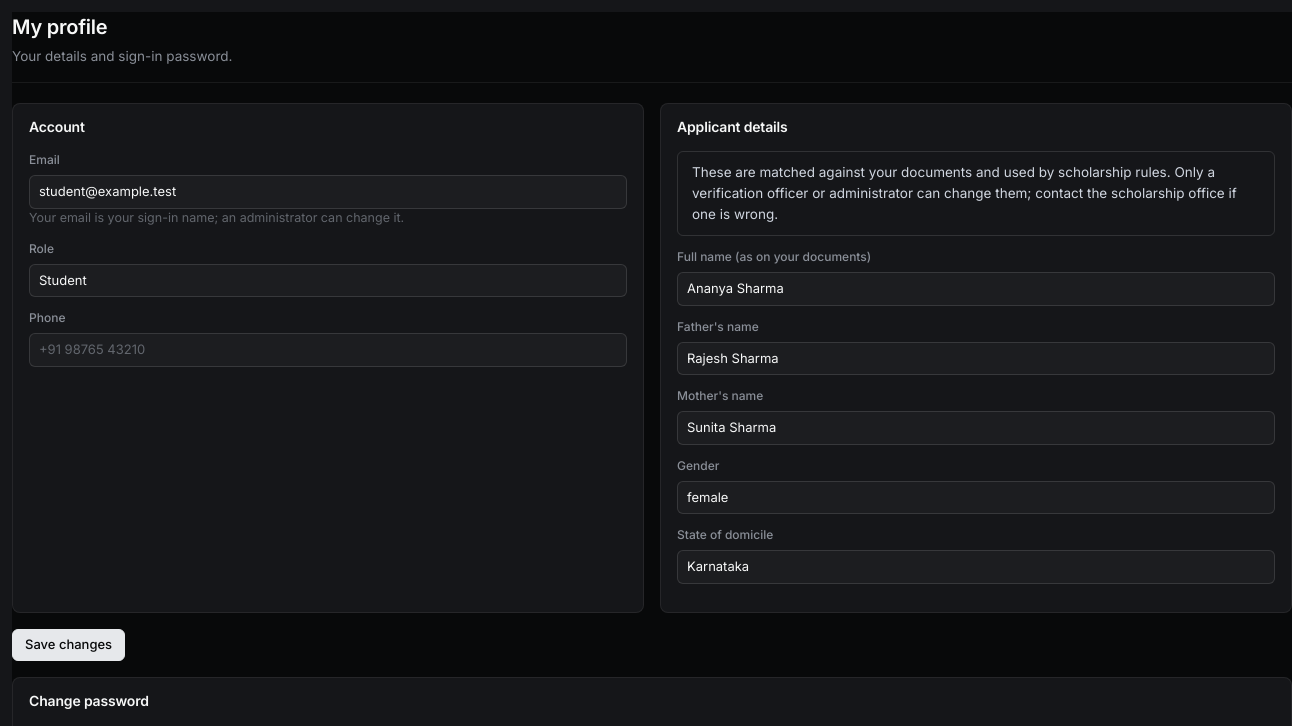
Test: profile page › shows a student’s details read-only once set, and only sends the phone afterwards
The width and height of the screenshot is (1292, 726).
Expected: the field labelled "Full name (as on your documents)" is disabled, [677,272,1275,306]
Expected: the field labelled "Father's name" is disabled, [677,342,1275,375]
Type "+91 90000 00000" into the field labelled "Phone" at (328, 350), box [29,333,627,366]
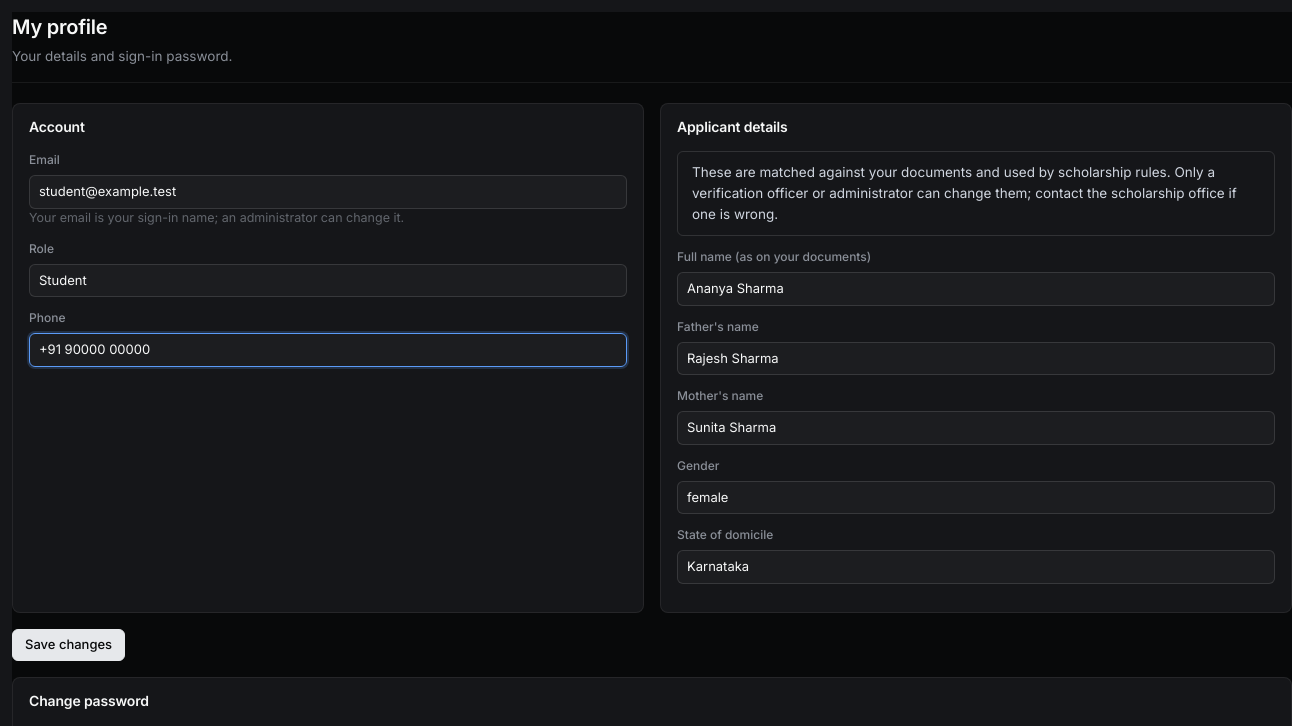
Click the button "Save changes" at (69, 644), box [12,628,125,660]
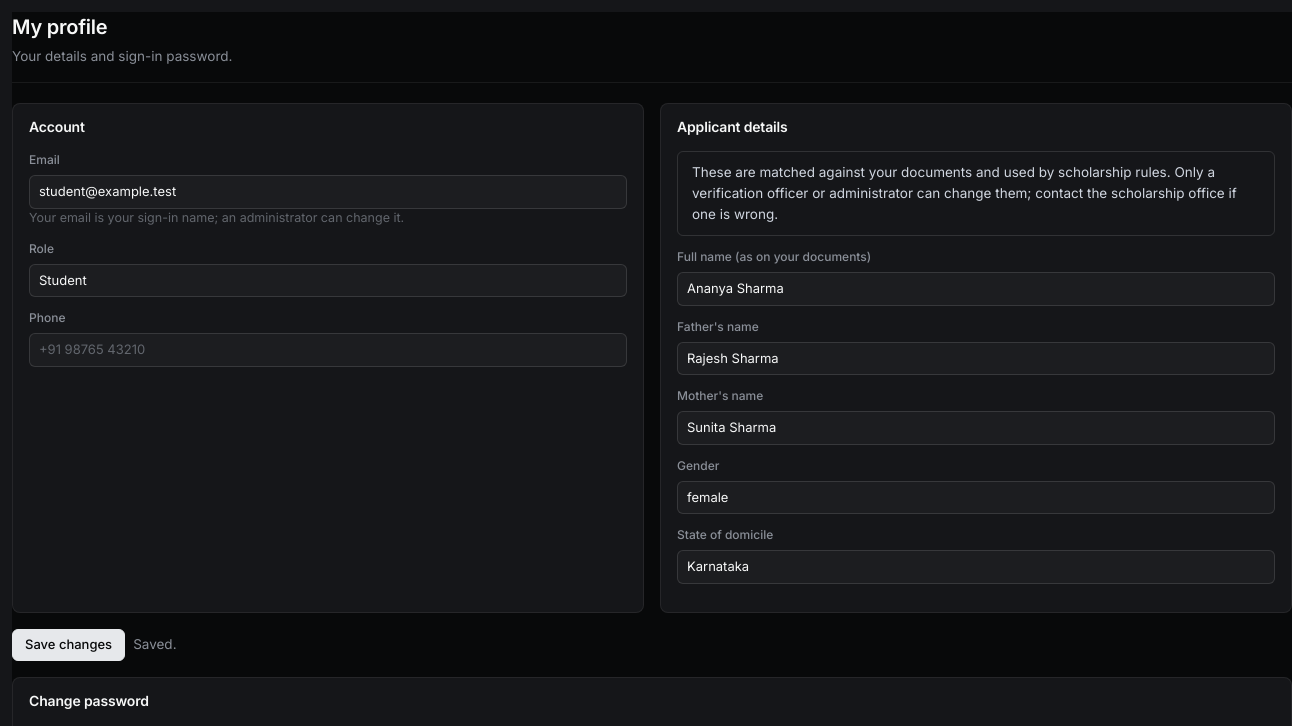
Expected: the text "Saved." is shown, [133,634,176,655]
